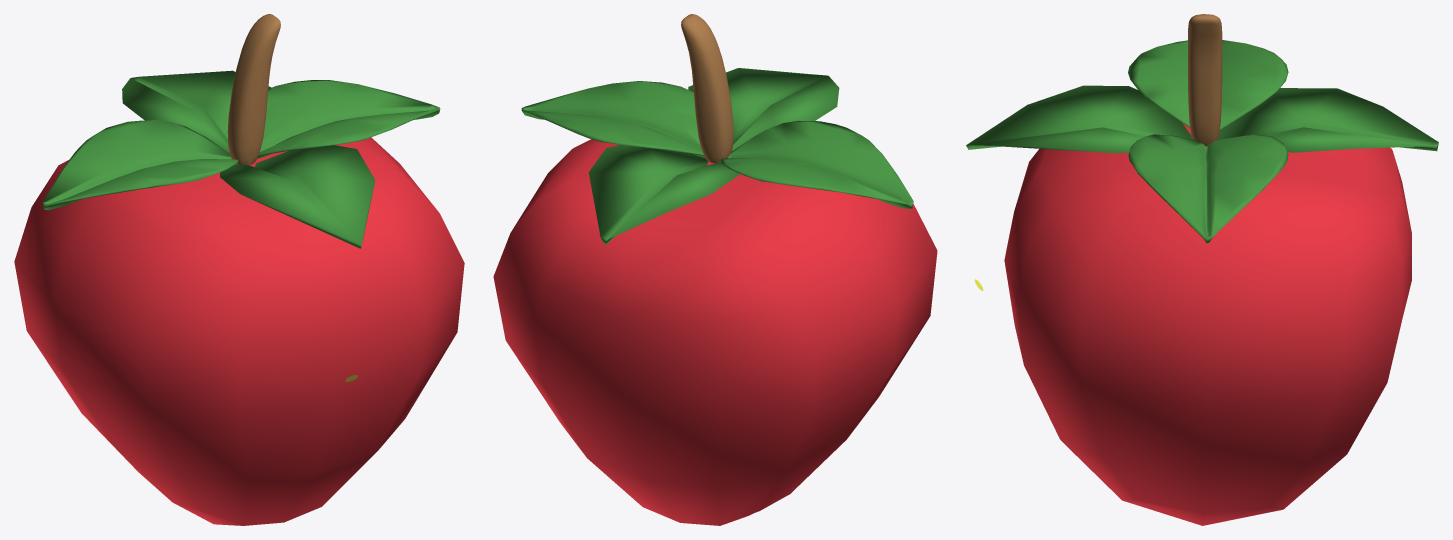
File: FresaSanadora.fbx
3 views of the same model, side by side, from view 1: azimuth 30°, elevation 25°; view 2: azimuth 150°, elevation 25°; view 3: azimuth 270°, elevation 25° (orthographic). The views are drawn at different scales.
Visible parts, largest first — view 1: Cube.001, Plane.001, Plane, Cube.002; view 2: Cube.001, Plane.001, Plane, Cube.002; view 3: Cube.001, Plane, Plane.001, Cube.002.
Boxes of the visible parts, x1,y1,x2,y2 form: Cube.001: (14,137,464,525); Plane.001: (42,80,440,210); Plane: (122,70,375,248); Cube.002: (227,14,280,165); Cube.001: (493,139,937,525); Plane.001: (521,81,913,208); Plane: (588,68,839,245); Cube.002: (681,14,733,163); Cube.001: (1004,123,1411,525); Plane: (966,85,1438,153); Plane.001: (1128,40,1288,243); Cube.002: (1188,14,1222,146).
Bounding box in the file's own units: 292 × 351 × 291.
